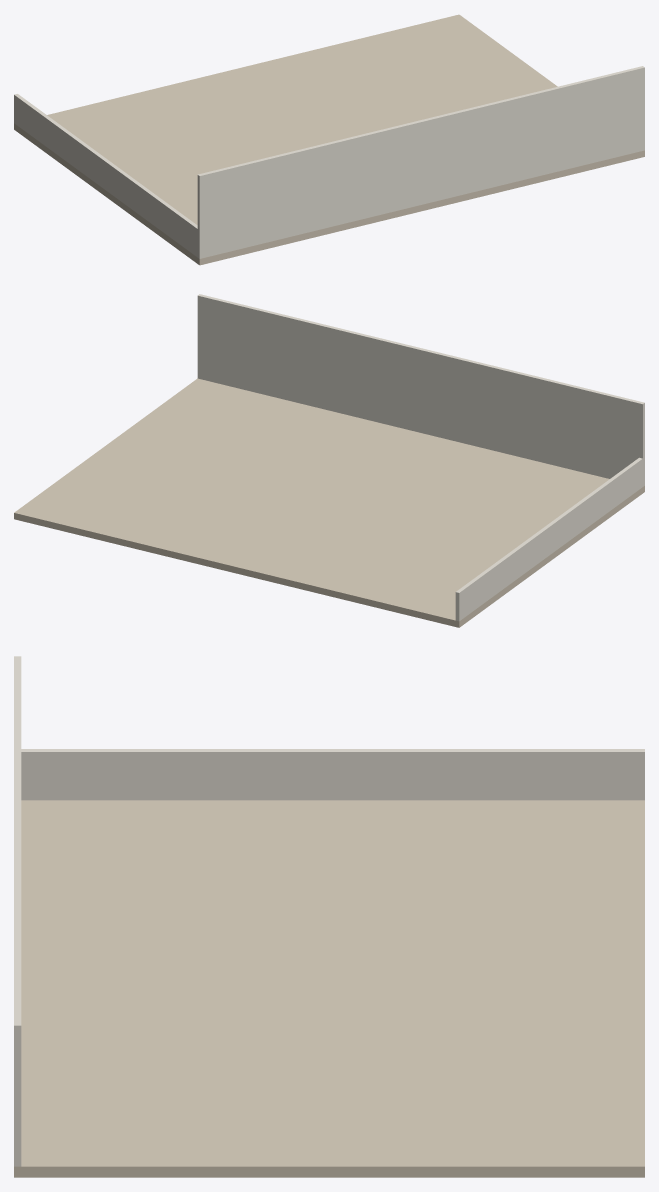
File: office-shell.glb
3 renders of one model, top to bottom at view 1: azimuth 30°, elevation 25°; view 2: azimuth 150°, elevation 25°; view 3: azimuth 270°, elevation 25°, orthographic. The views are drawn at different scales.
Visible parts, largest first — view 1: FloorSlab, WallRear, WallLeftCutaway; view 2: FloorSlab, WallRear, WallLeftCutaway; view 3: FloorSlab, WallLeftCutaway, WallRear.
Boxes of the visible parts, x1,y1,x2,y2 form: FloorSlab: (14,14,644,265); WallRear: (197,66,644,258); WallLeftCutaway: (14,94,203,258); FloorSlab: (14,378,644,627); WallRear: (197,294,644,485); WallLeftCutaway: (455,457,644,621); FloorSlab: (14,800,644,1177); WallLeftCutaway: (21,749,644,800); WallRear: (14,656,21,1166).
Size of the model in its own units: 18 by 3.45 by 13.
